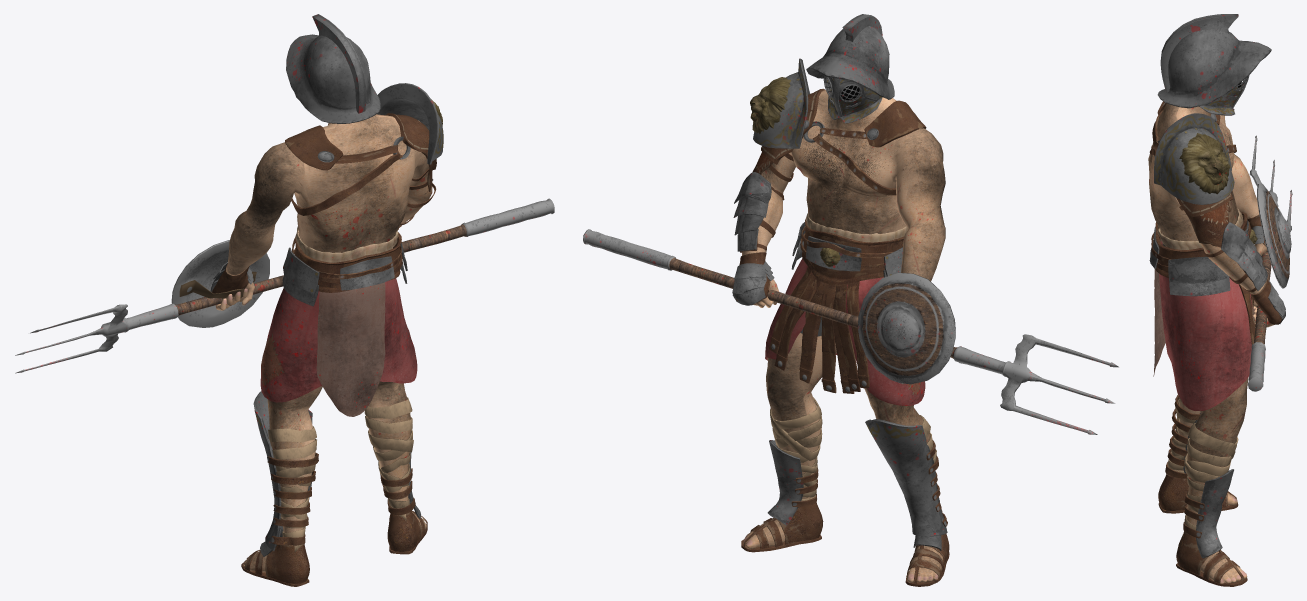
Rendered from gladiator_helmet.glb.
3 views of the same model, side by side, from view 1: azimuth 30°, elevation 25°; view 2: azimuth 150°, elevation 25°; view 3: azimuth 270°, elevation 25° (orthographic). The views are drawn at different scales.
Visible parts, largest first — view 1: Object_6, Object_2, Object_3, Object_4, Object_5; view 2: Object_6, Object_3, Object_4, Object_5, Object_2, Object_7; view 3: Object_3, Object_2, Object_4, Object_6, Object_5, Object_7.
Boxes of the visible parts, bbox=[...] form: Object_6: bbox=[215, 114, 432, 572]; Object_2: bbox=[260, 226, 417, 552]; Object_3: bbox=[210, 14, 443, 556]; Object_4: bbox=[212, 113, 436, 586]; Object_5: bbox=[15, 198, 554, 373]; Object_6: bbox=[742, 85, 945, 582]; Object_3: bbox=[732, 14, 947, 550]; Object_4: bbox=[733, 88, 949, 586]; Object_5: bbox=[583, 229, 1118, 434]; Object_2: bbox=[765, 213, 936, 501]; Object_7: bbox=[743, 172, 771, 231]; Object_3: bbox=[1149, 14, 1285, 558]; Object_2: bbox=[1153, 208, 1254, 534]; Object_4: bbox=[1149, 101, 1281, 586]; Object_6: bbox=[1148, 82, 1274, 583]; Object_5: bbox=[1248, 135, 1292, 391]; Object_7: bbox=[1225, 222, 1262, 260].
Bounding box in the file's own units: 26.87 × 25.88 × 6.48.
5 materials, 5 textured.
